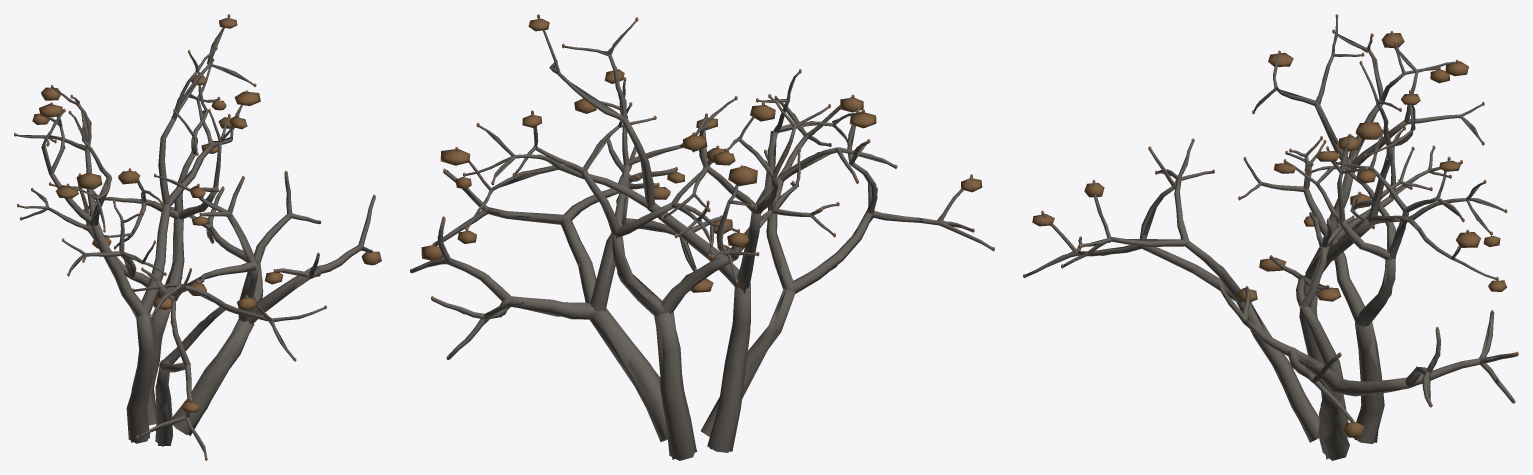
File: scrub_oak_3.glb
The picture shows the model from 3 angles, left to right: view 1: azimuth 30°, elevation 25°; view 2: azimuth 150°, elevation 25°; view 3: azimuth 270°, elevation 25°; orthographic projection. The views are drawn at different scales.
Parts seen in each view (by area): view 1: ScrubOak_LimbWood_2, ScrubOak_Far_Bark, ScrubOak_LimbWood_0, ScrubOak_LimbWood_1, ScrubOak_LimbWood_3; view 2: ScrubOak_Far_Bark, ScrubOak_LimbWood_2, ScrubOak_LimbWood_1, ScrubOak_LimbWood_0, ScrubOak_LimbWood_3; view 3: ScrubOak_LimbWood_1, ScrubOak_Far_Bark, ScrubOak_LimbWood_0, ScrubOak_LimbWood_2, ScrubOak_LimbWood_3.
Part boxes in pixels (x1,y1,x2,y2): ScrubOak_LimbWood_2: (16, 17, 253, 443); ScrubOak_Far_Bark: (21, 28, 373, 451); ScrubOak_LimbWood_0: (171, 172, 375, 434); ScrubOak_LimbWood_1: (19, 74, 237, 425); ScrubOak_LimbWood_3: (133, 269, 325, 457); ScrubOak_Far_Bark: (417, 31, 980, 459); ScrubOak_LimbWood_2: (457, 17, 862, 452); ScrubOak_LimbWood_1: (515, 81, 837, 460); ScrubOak_LimbWood_0: (411, 140, 721, 441); ScrubOak_LimbWood_3: (701, 96, 992, 436); ScrubOak_LimbWood_1: (1240, 128, 1462, 443); ScrubOak_Far_Bark: (1038, 30, 1509, 459); ScrubOak_LimbWood_0: (1218, 213, 1517, 460); ScrubOak_LimbWood_2: (1253, 17, 1505, 423); ScrubOak_LimbWood_3: (1024, 141, 1319, 441).
Size of what is drawn, in the model's own units: 3.48 by 3.39 by 3.7.
